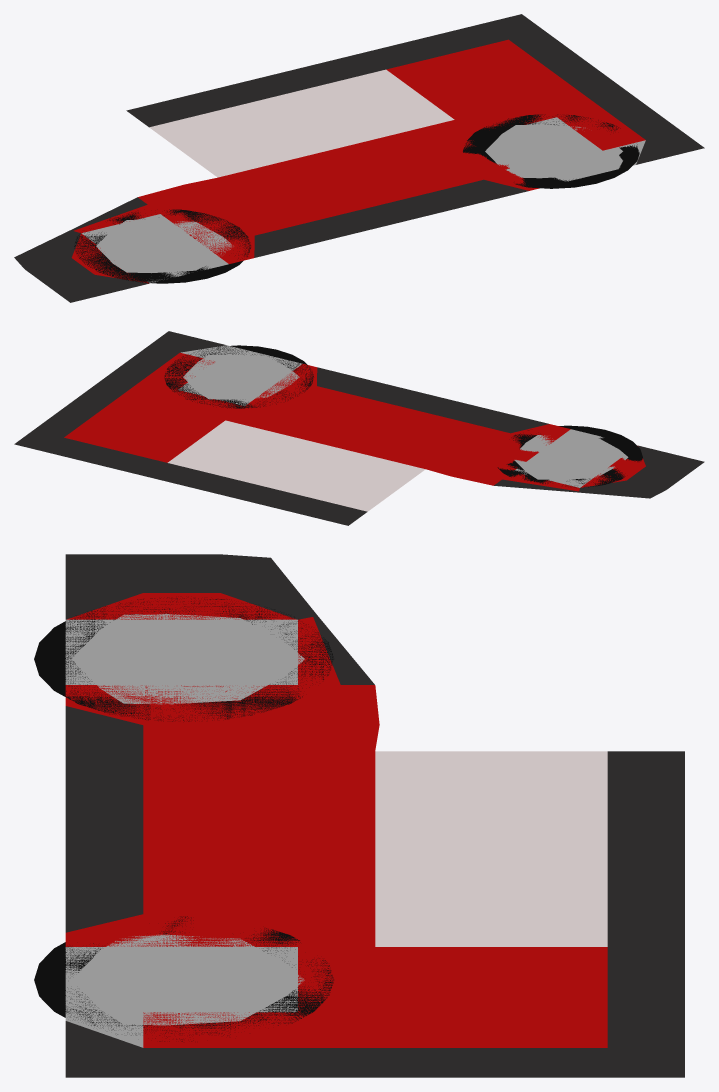
File: Delivery_car.fbx
3 renders of one model, top to bottom at view 1: azimuth 30°, elevation 25°; view 2: azimuth 150°, elevation 25°; view 3: azimuth 270°, elevation 25°, orthographic. The views are drawn at different scales.
Parts seen in each view (by area): view 1: pPlane6; view 2: pPlane6; view 3: pPlane6.
Part boxes in pixels (<box>): pPlane6: <box>14,14,704,302</box>; pPlane6: <box>14,331,704,525</box>; pPlane6: <box>34,554,684,1077</box>.
Size of the model in its own units: 0.9063 by 0 by 0.4764.
